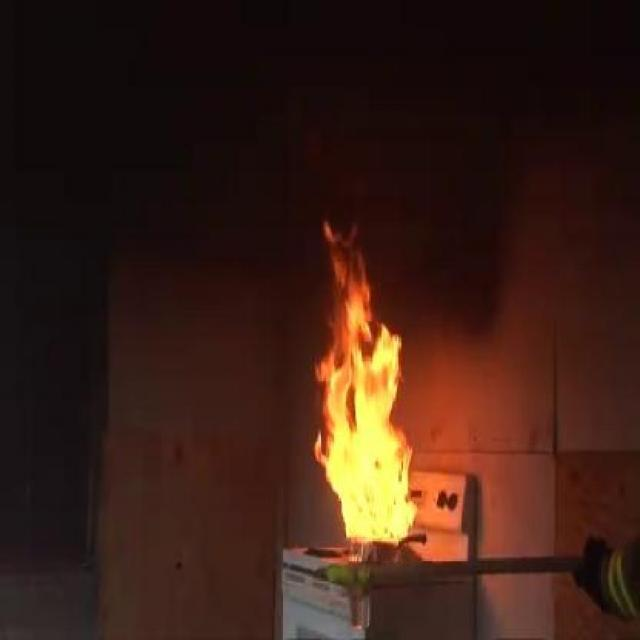fire: (310, 224, 430, 533)
